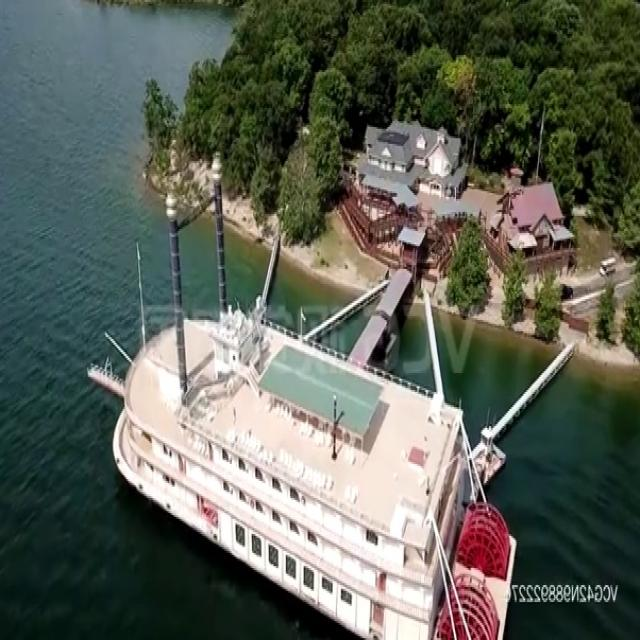passenger ship: (114, 306, 521, 640)
